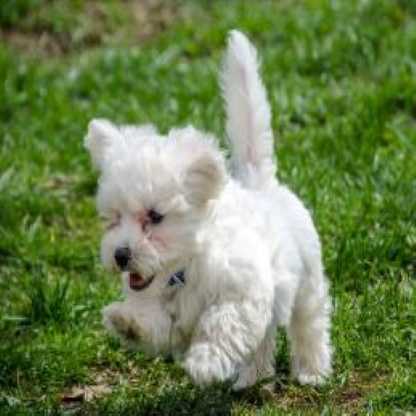maltese: (78, 29, 339, 395)
